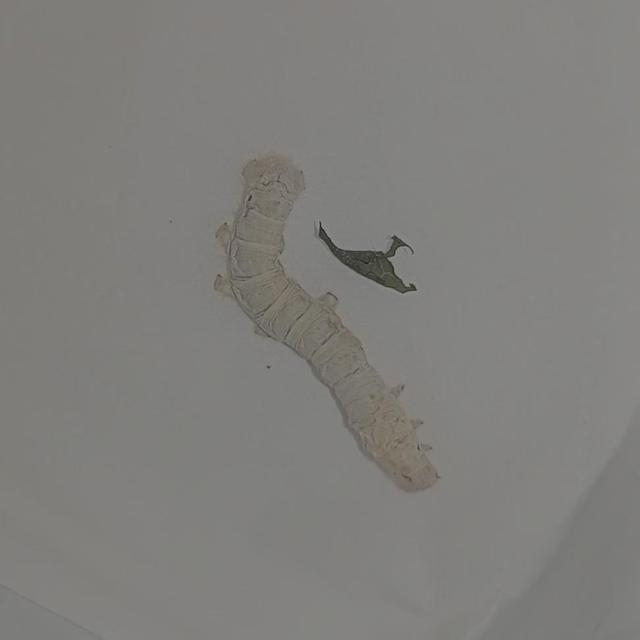Healthy: (202, 140, 449, 499)
